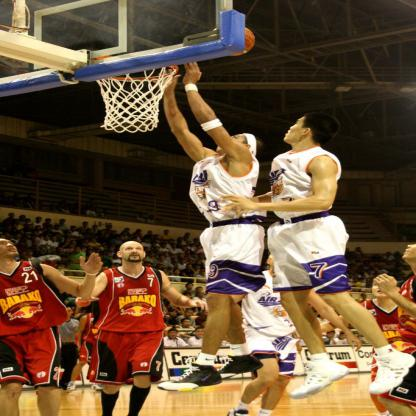Ball: (225, 27, 251, 57)
